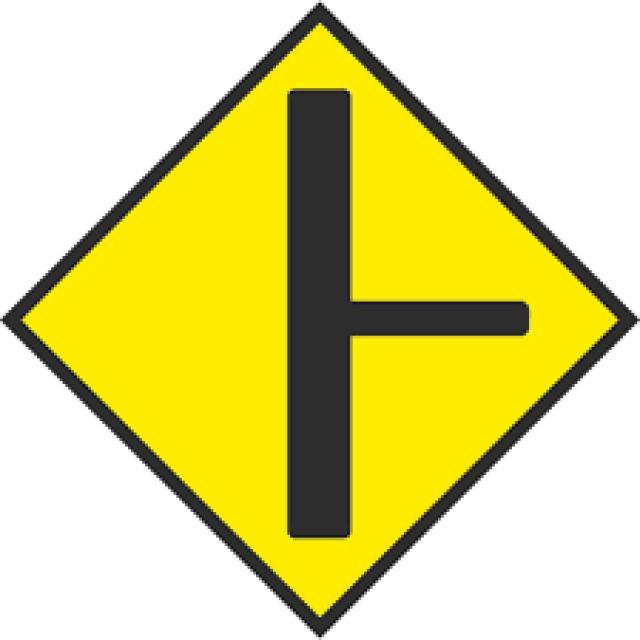side road right: (21, 19, 626, 620)
